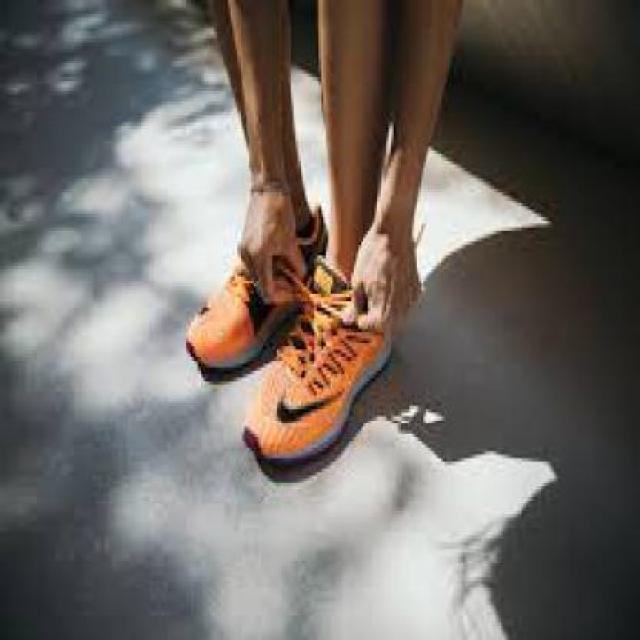Nike: (270, 388, 347, 423)
